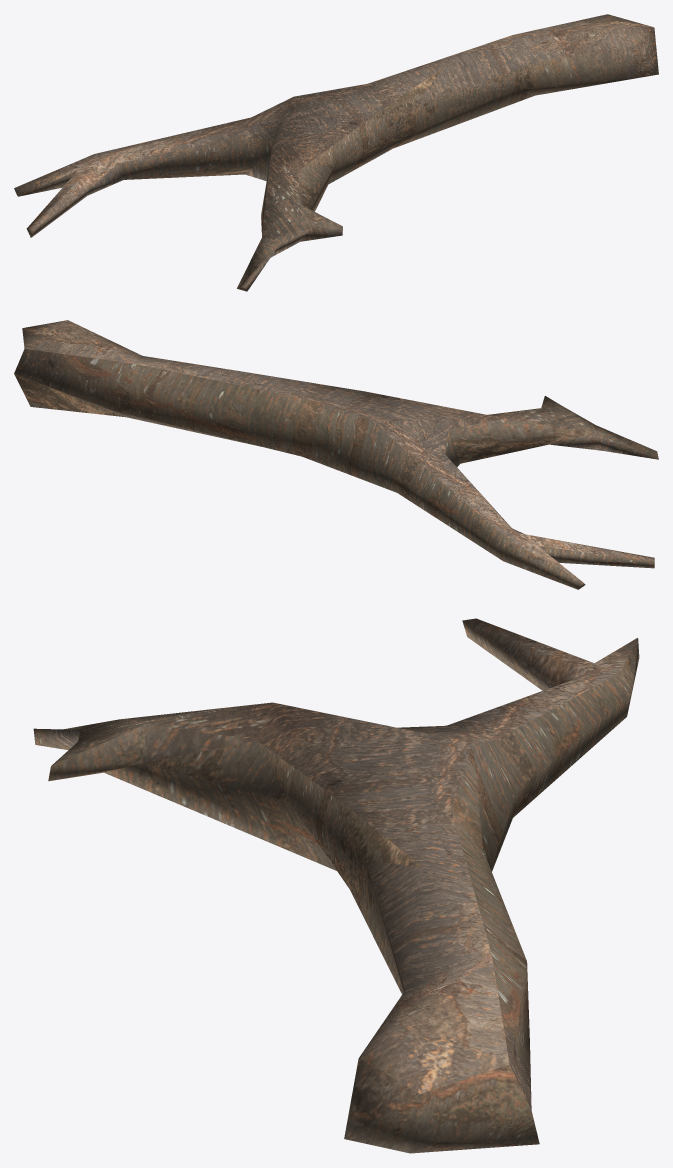
File: Branch 1.fbx
The picture shows the model from 3 angles, top to bottom: view 1: azimuth 30°, elevation 25°; view 2: azimuth 150°, elevation 25°; view 3: azimuth 270°, elevation 25°; orthographic projection. The views are drawn at different scales.
Visible parts, largest first — view 1: Plane; view 2: Plane; view 3: Plane.
Part boxes in pixels (x1,y1,x2,y2): Plane: (14,14,658,291); Plane: (14,320,658,589); Plane: (33,618,639,1153).
Bounding box in the file's own units: 4.91 × 11.48 × 1.49.
